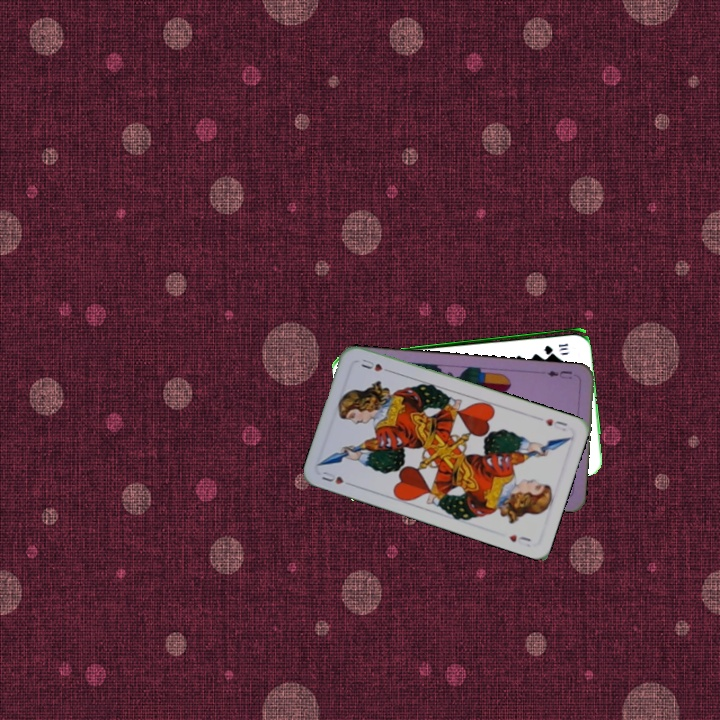EU: (543, 366, 574, 381)
G10: (540, 339, 571, 354)
HU: (318, 467, 356, 489), (541, 414, 570, 434)
